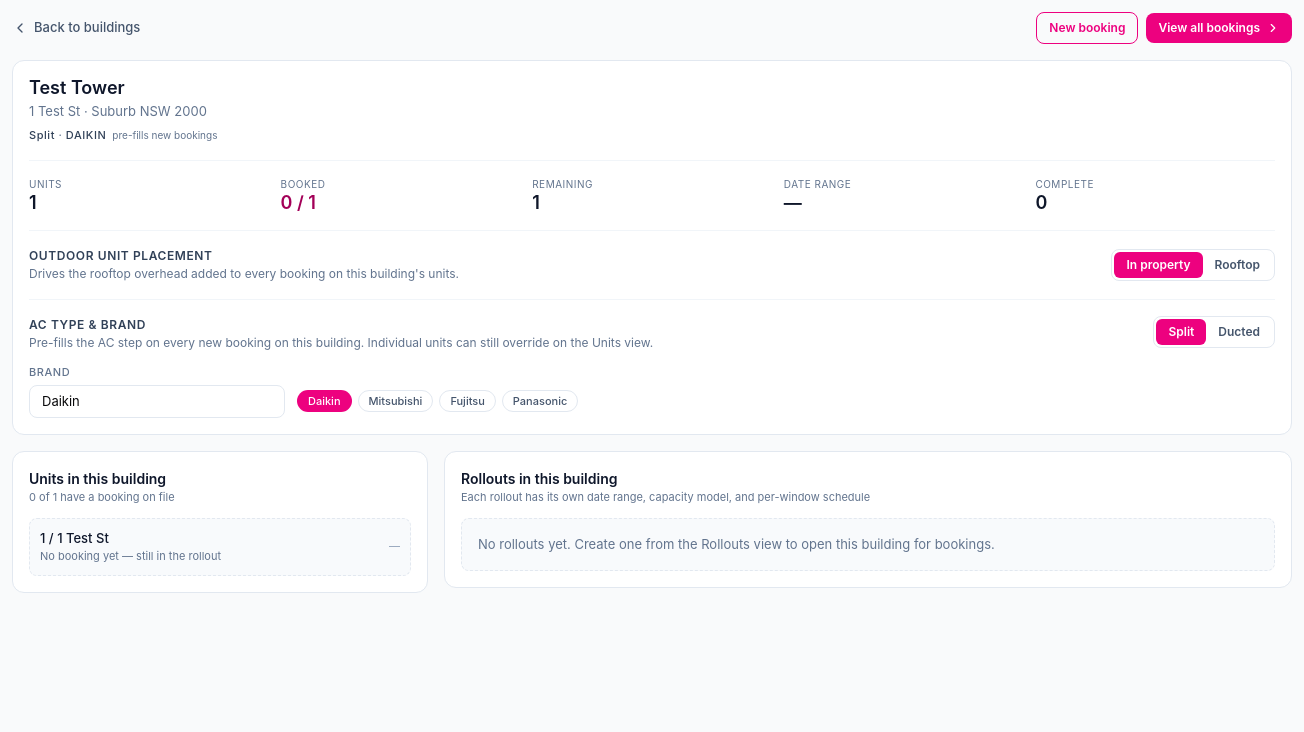
Test case: BuildingDetail · AC type & brand editor (Task #110 follow-up) › clearing the input keeps the local draft empty (with a validation hint) but does NOT commit, and blur snaps back to the last saved brand
Clear the field named "AC brand" at {"x": 157, "y": 401}, box top-left (29, 384), bottom-right (285, 418)
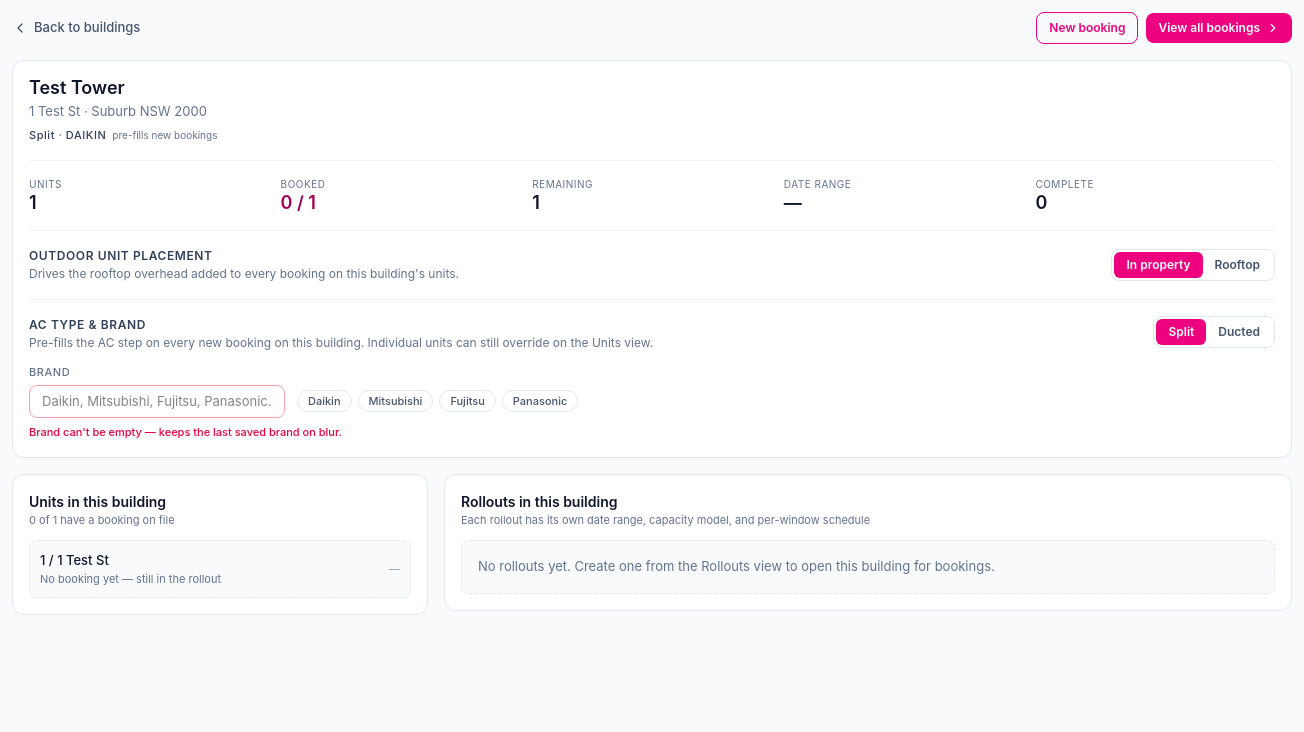
Expected: the text "Brand can't be empty — keeps the last saved brand on blur." is shown, top-left (29, 425), bottom-right (342, 439)
Leave the field named "AC brand", box top-left (29, 384), bottom-right (285, 418)
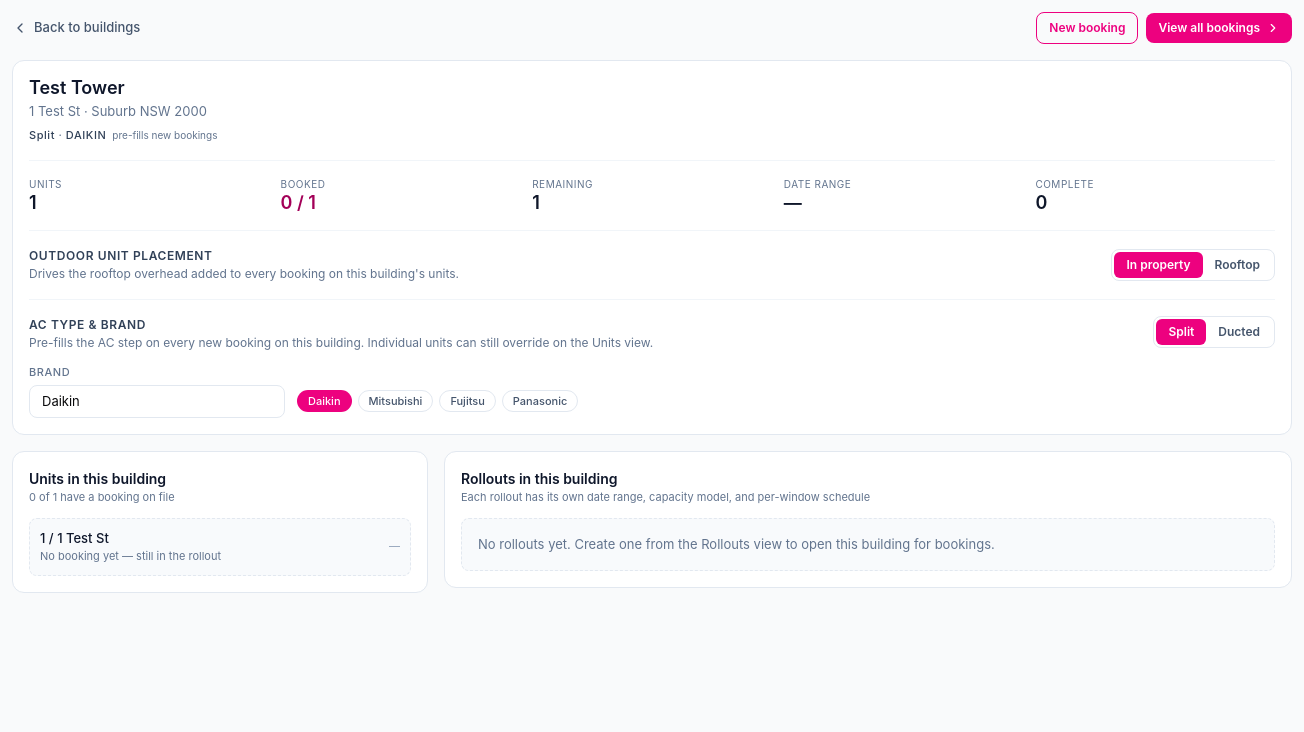
Expected: the field named "AC brand" holds "Daikin", top-left (29, 384), bottom-right (285, 418)
